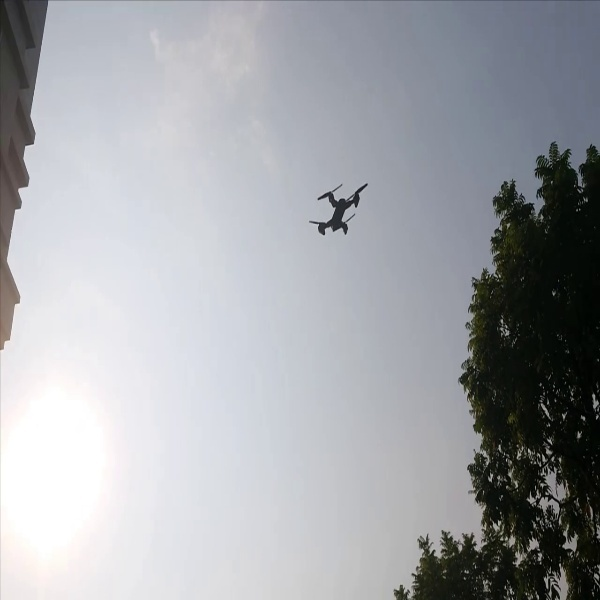drone: (310, 182, 373, 249)
